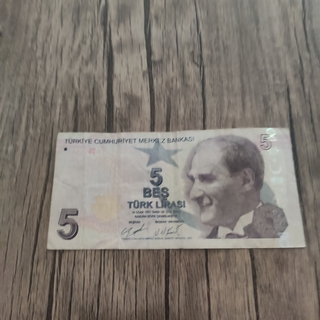5TLFront: (46, 126, 306, 250)
